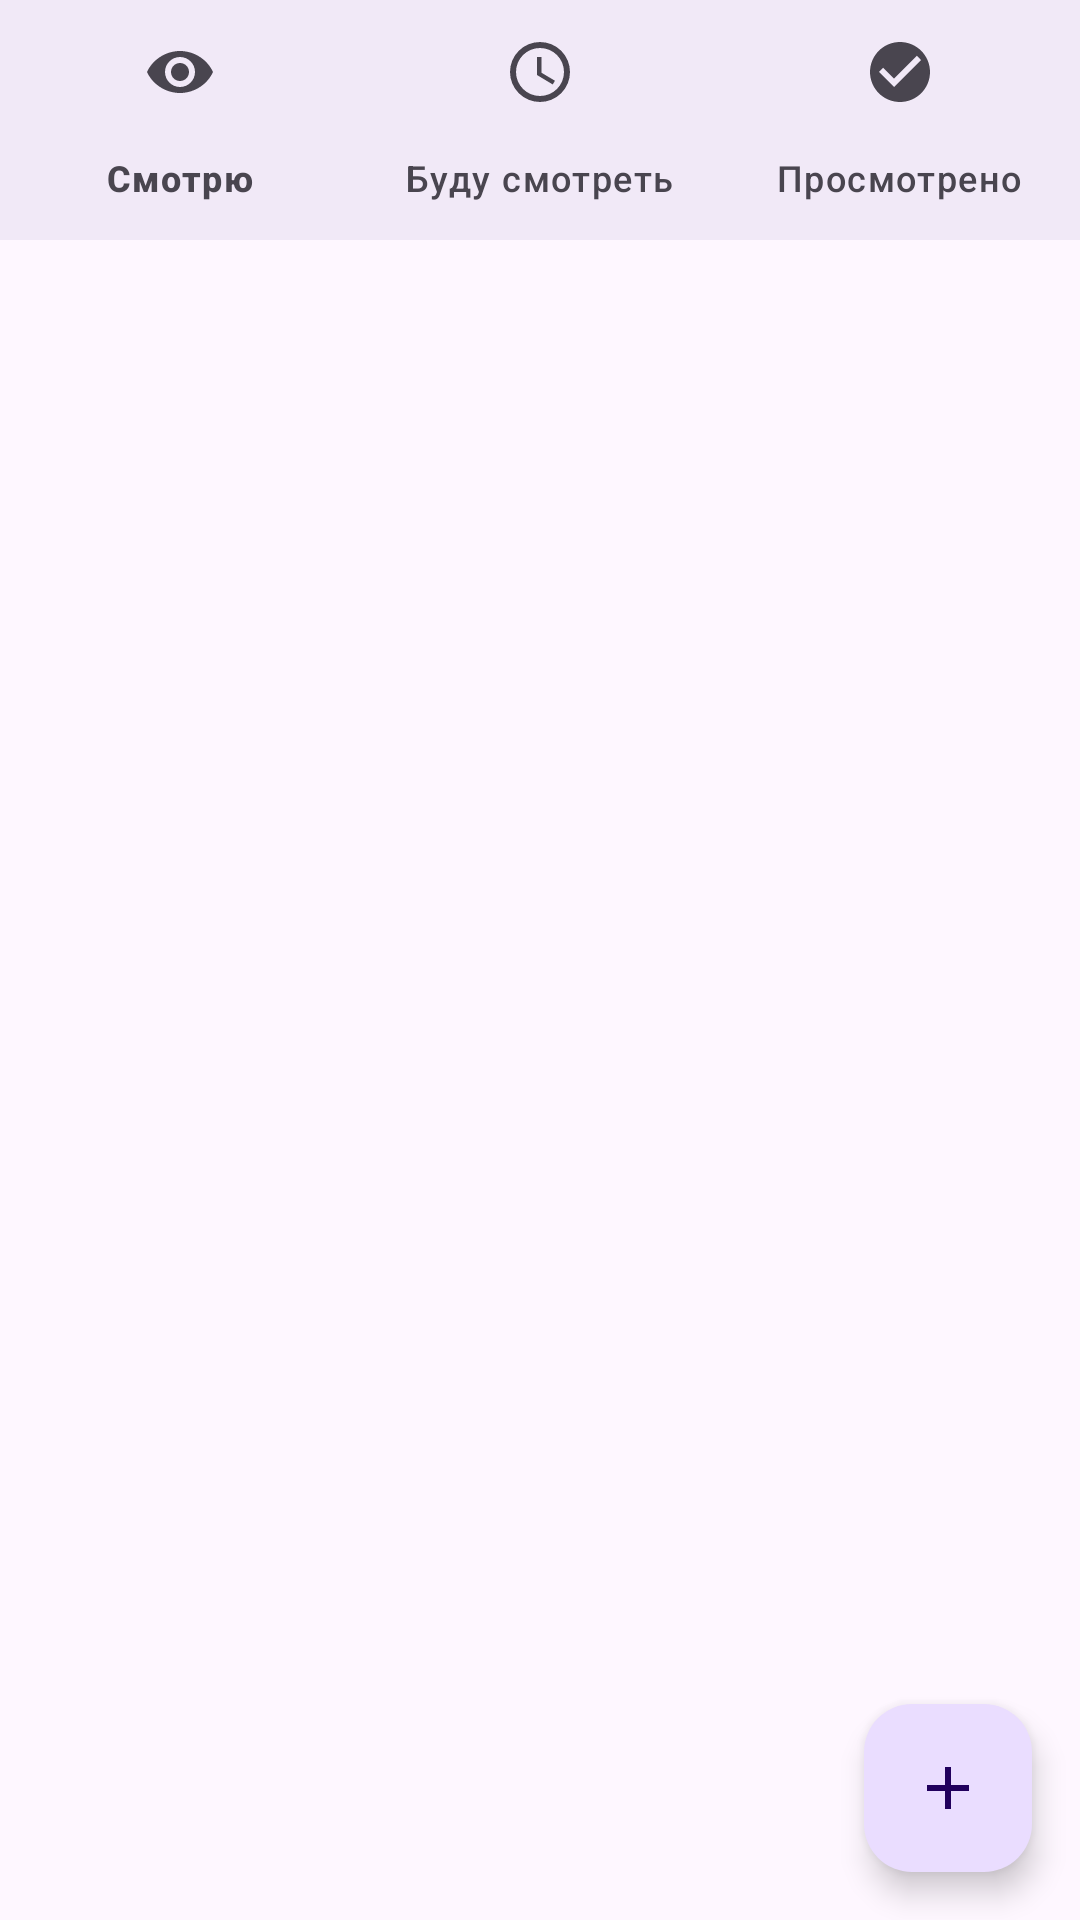

Icons on this 1080px x 1920px Android screen, each with the point to tap as (x,y):
Добавить товар: (948,1788)
